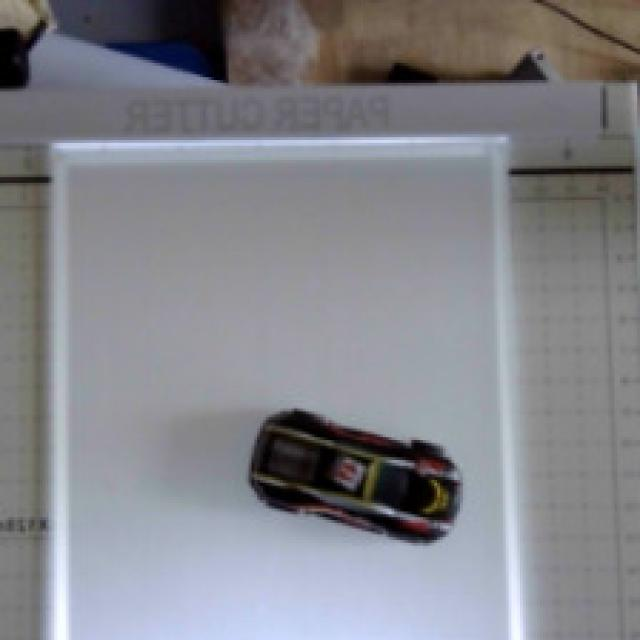Red Car: (221, 367, 482, 586)
